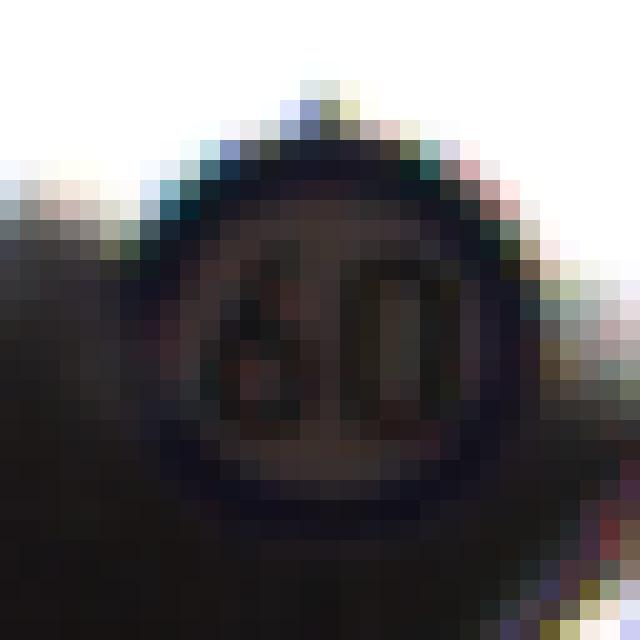SPEED-LIMIT-60: (118, 124, 549, 539)
